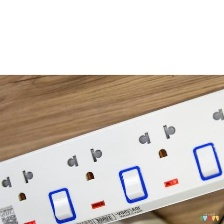three_eye_plug: (0, 83, 224, 223)
